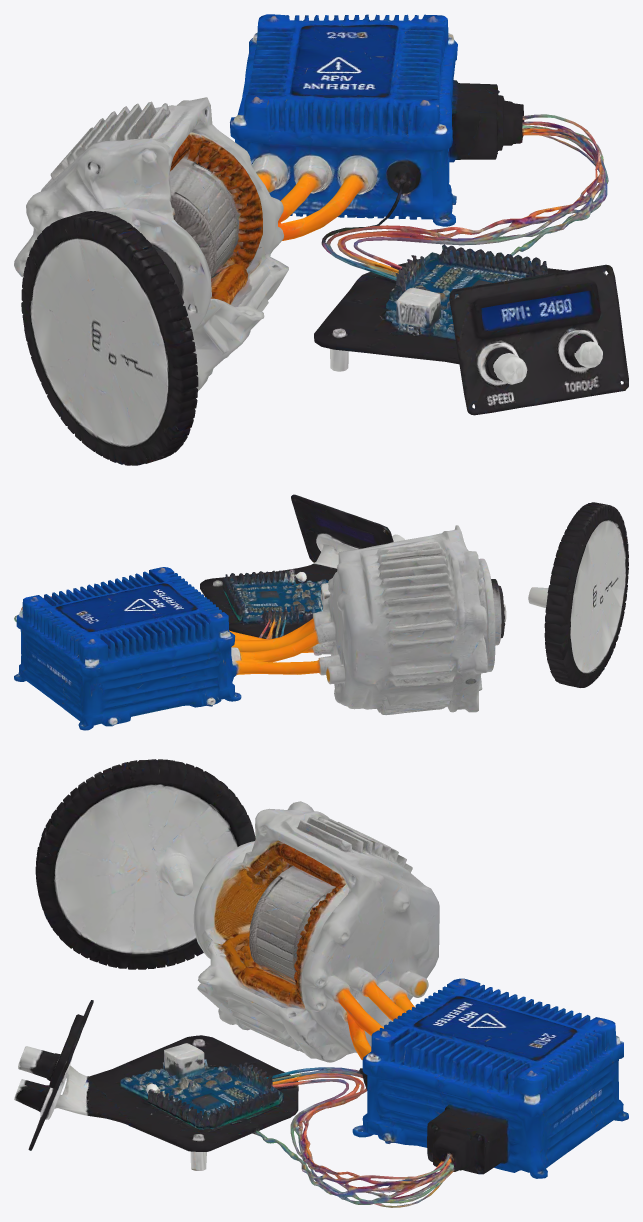
Rendered from motordrive.glb.
3 renders of one model, top to bottom at view 1: azimuth 30°, elevation 25°; view 2: azimuth 150°, elevation 25°; view 3: azimuth 270°, elevation 25°, orthographic. The views are drawn at different scales.
Bounding box in the file's own units: 1.9 × 0.6597 × 1.75.
1 material, 1 textured.
